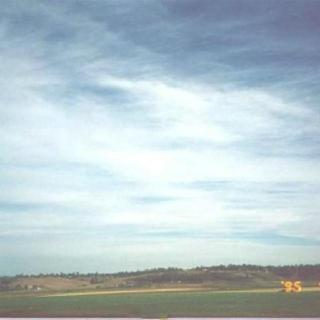Cirrostratus: (0, 0, 320, 256)
